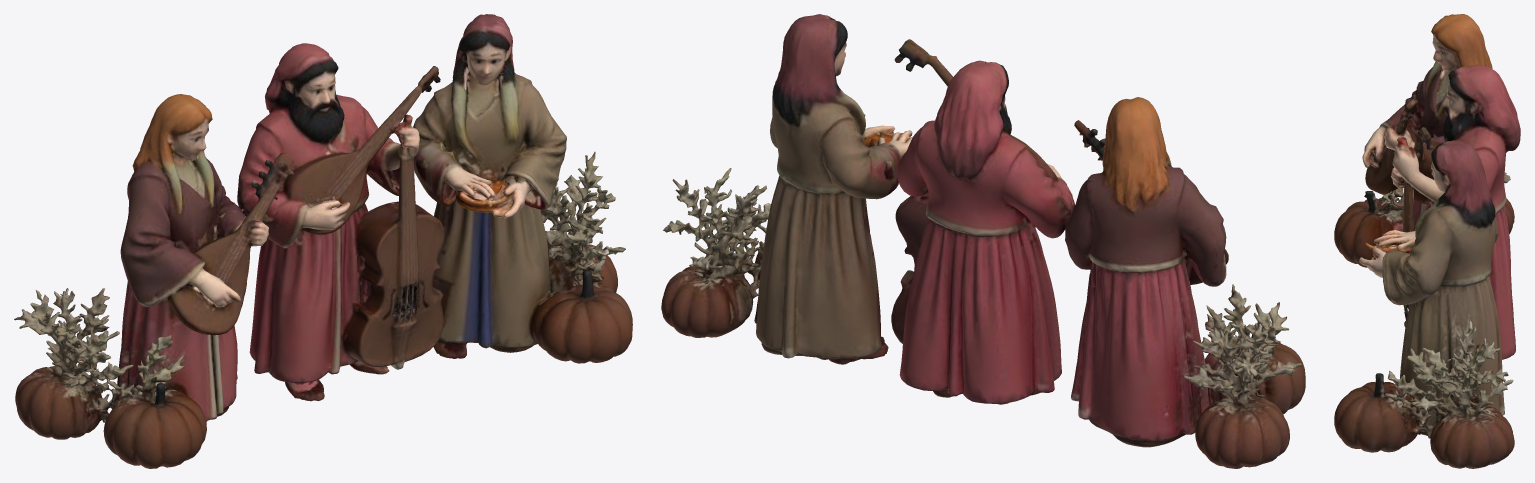
Rendered from Travelling Band_final.glb.
3 renders of one model, left to right at view 1: azimuth 30°, elevation 25°; view 2: azimuth 150°, elevation 25°; view 3: azimuth 270°, elevation 25°, orthographic. The views are drawn at different scales.
Parts seen in each view (by area): view 1: Mesh1.0; view 2: Mesh1.0; view 3: Mesh1.0.
Part boxes in pixels (<box>): Mesh1.0: <box>14,14,632,468</box>; Mesh1.0: <box>661,14,1305,468</box>; Mesh1.0: <box>1334,14,1520,468</box>.
Size of the model in its own units: 3.26 by 1.7 by 1.02.
Materials: 1 (1 with a texture image).
